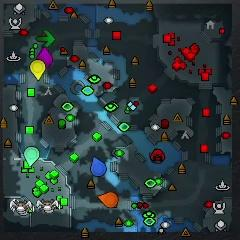p1: (90, 157, 107, 177)
p2: (24, 147, 40, 166)
p3: (37, 48, 52, 68)
p4: (30, 60, 45, 81)
p5: (98, 192, 118, 208)
x4: (36, 30, 56, 47)
